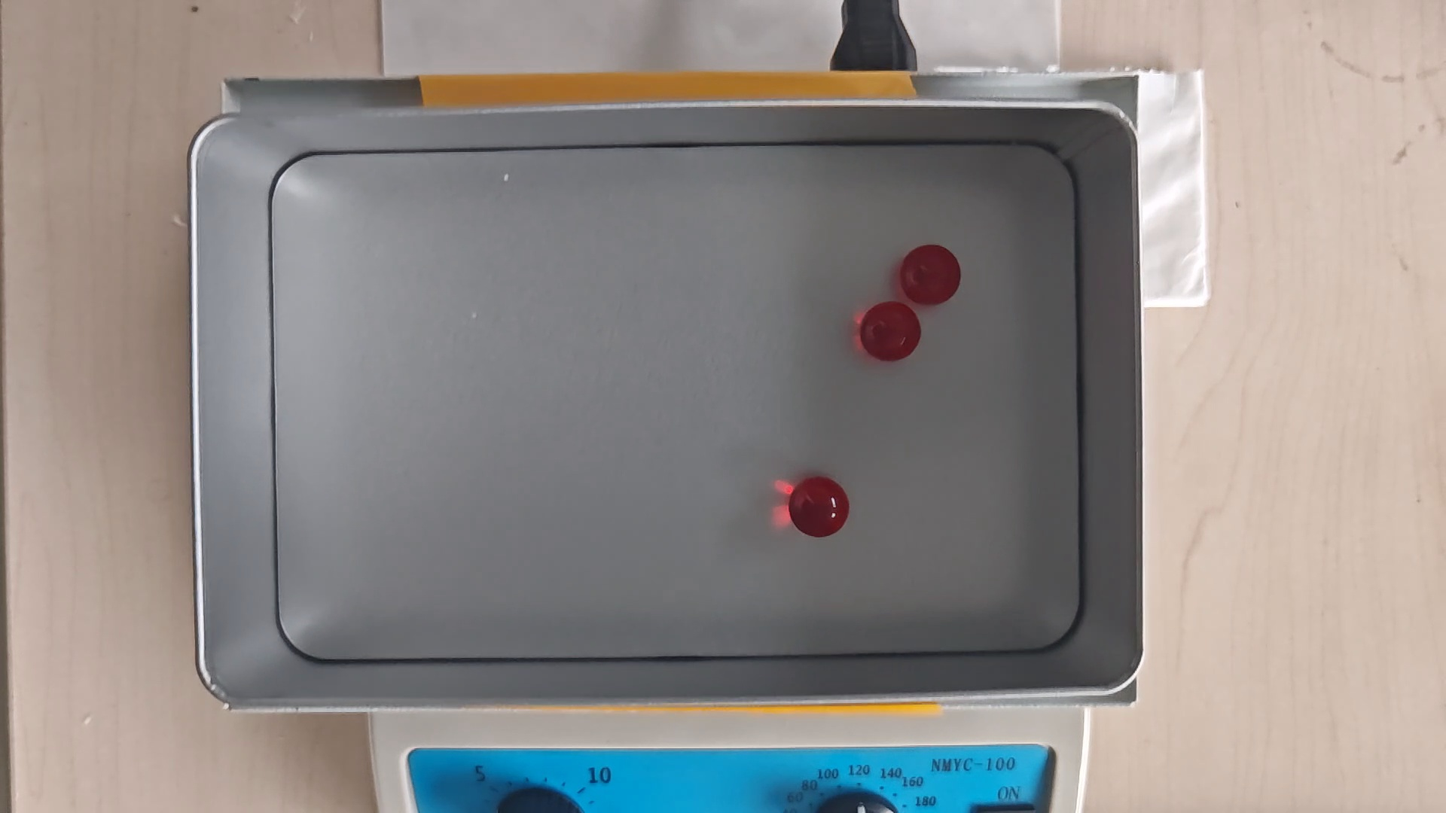ball: (791, 474, 850, 541), (901, 246, 963, 304), (863, 303, 920, 364)
container: (267, 148, 1083, 659)
